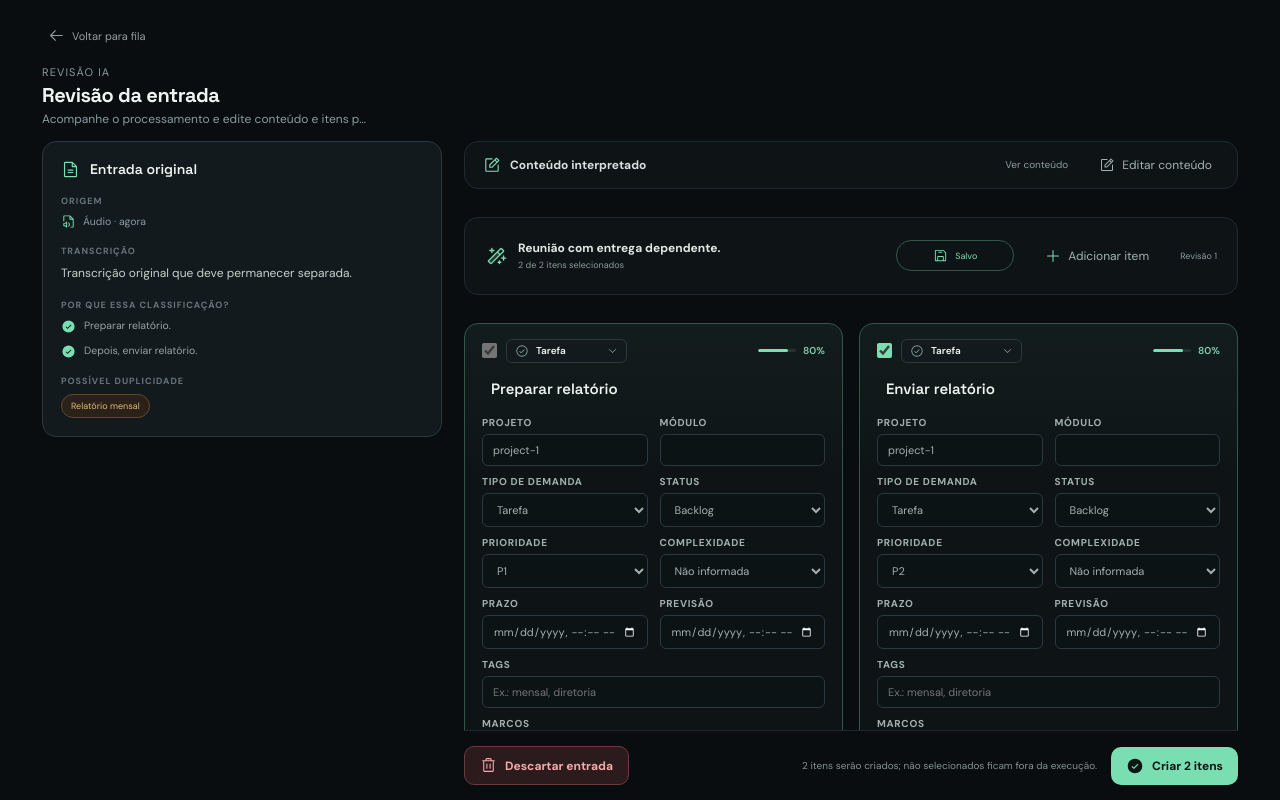
Scenario: front do harness supervisionado › troca tarefa por nota privada e persiste payload compatível
Step 1. Select "Nota privada" in the dropdown named "Tipo de Preparar relatório" → (568, 351), box x1=536 y1=344 x2=600 y2=357
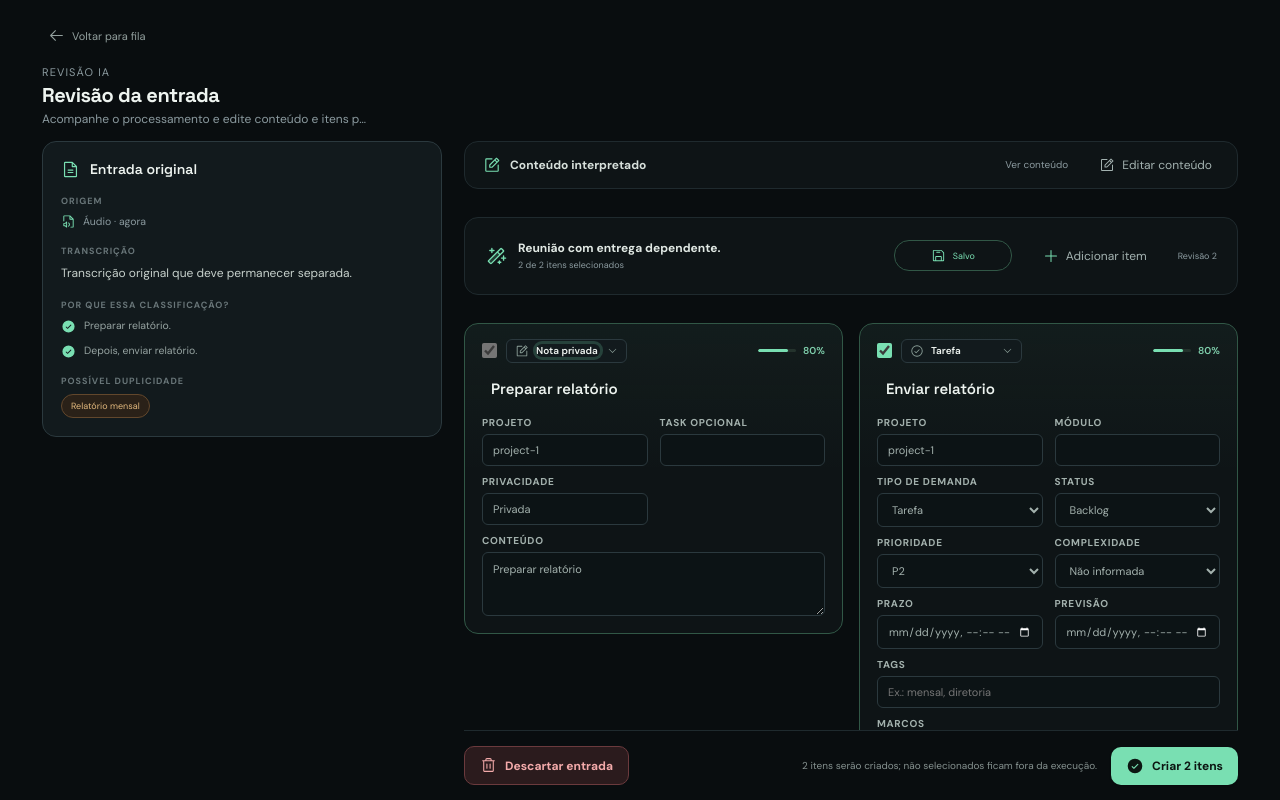
Expected: the field labelled "Privacidade" holds "Privada", x1=482 y1=493 x2=648 y2=525
